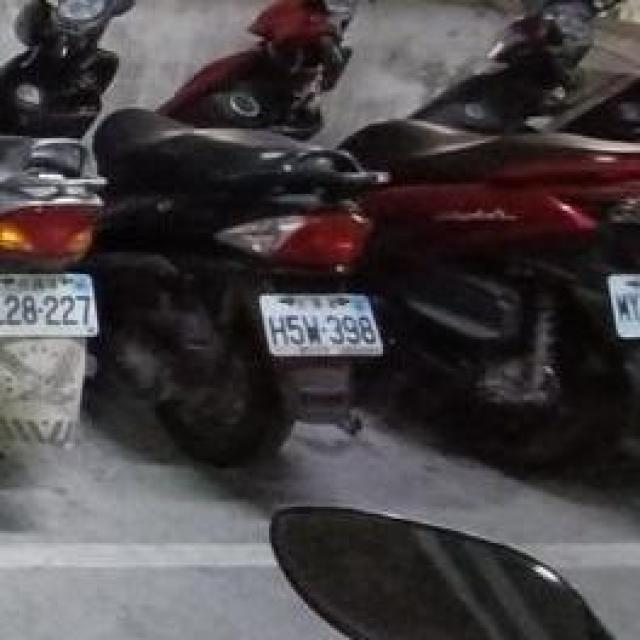W: (250, 274, 388, 373), (0, 259, 102, 347), (596, 255, 640, 352)
